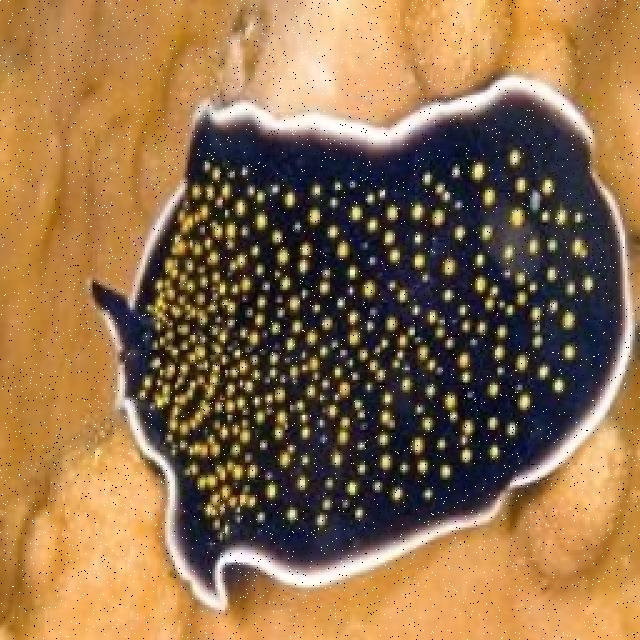reefs: (87, 73, 633, 613)
